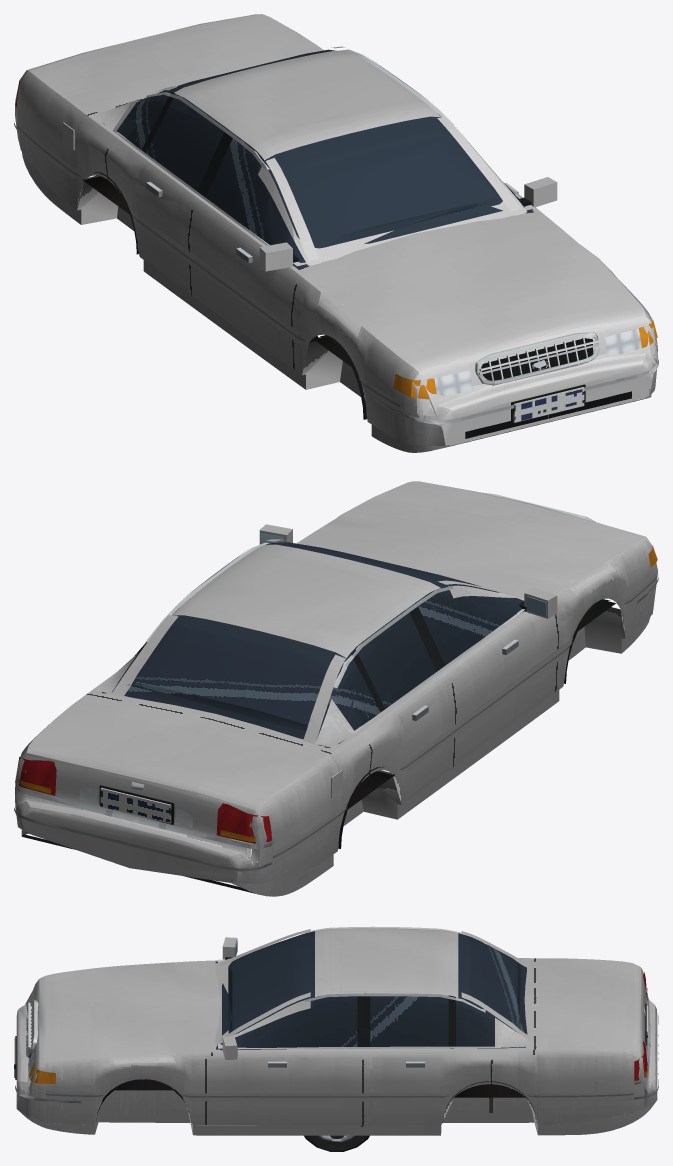
File: crown03.glb
3 renders of one model, top to bottom at view 1: azimuth 30°, elevation 25°; view 2: azimuth 150°, elevation 25°; view 3: azimuth 270°, elevation 25°, orthographic. The views are drawn at different scales.
Visible parts, largest first — view 1: Paint, Body, Body_far, Paint_far; view 2: Paint, Body, Paint_far, Body_far; view 3: Paint, Body, Body_far, Paint_far, Wheel.
Part boxes in pixels (x1,y1,x2,y2): Paint: [15, 14, 657, 452]; Body: [14, 49, 658, 447]; Body_far: [82, 50, 652, 423]; Paint_far: [77, 102, 651, 444]; Paint: [15, 481, 657, 896]; Body: [14, 492, 658, 894]; Paint_far: [21, 525, 625, 886]; Body_far: [17, 522, 615, 832]; Paint: [16, 928, 657, 1135]; Body: [14, 926, 658, 1123]; Body_far: [14, 939, 650, 1097]; Paint_far: [16, 937, 656, 1135]; Wheel: [304, 1135, 369, 1151].
Bounding box in the file's own units: 2.17 × 1.78 × 5.43.
Materials: 3 (3 with a texture image).
